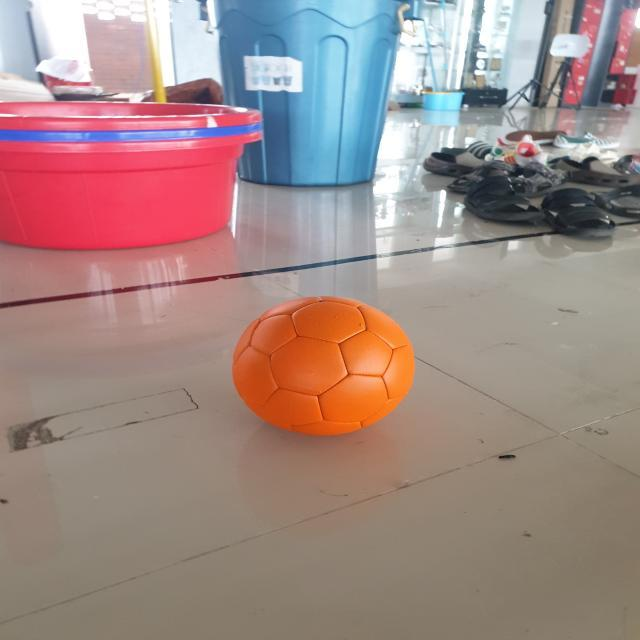bola: (224, 288, 431, 447)
